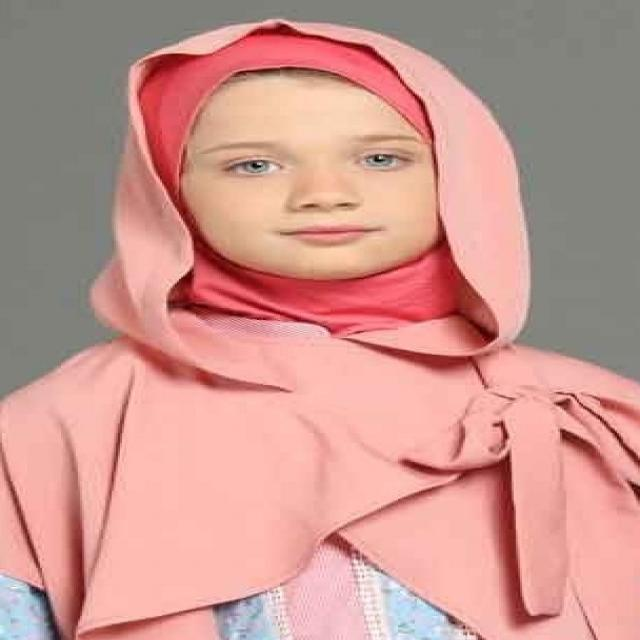head: (123, 21, 489, 289)
